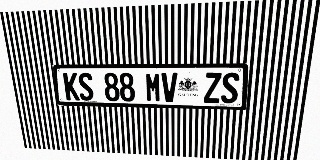8: (103, 73, 120, 101), (119, 73, 135, 102)
K: (63, 73, 80, 100)
M: (145, 73, 161, 102)
S: (221, 73, 240, 103), (77, 73, 94, 101)
V: (161, 73, 177, 102)
Z: (204, 73, 222, 103)
